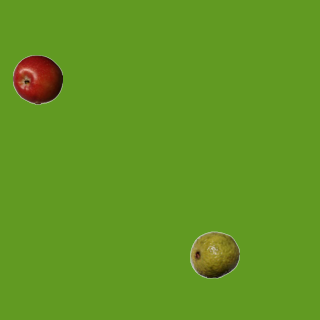Apple Braeburn: (12, 54, 62, 104)
Guava: (189, 229, 239, 279)
